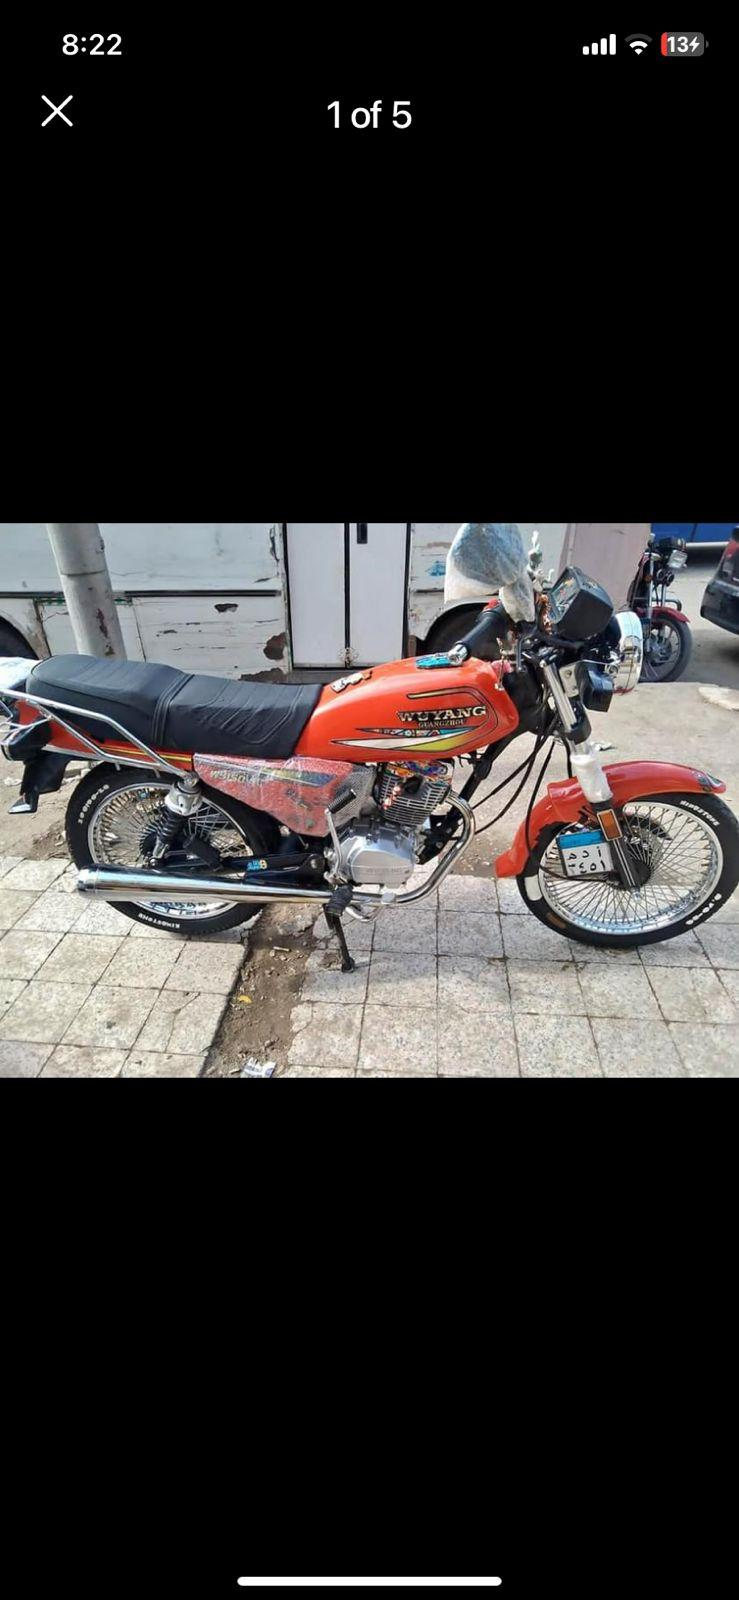License Plate: (559, 829, 615, 877)
